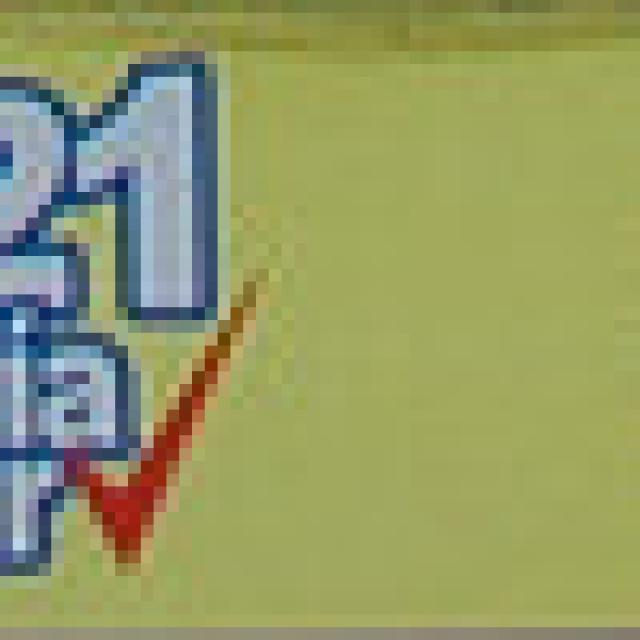no_fire: (21, 39, 640, 607)
